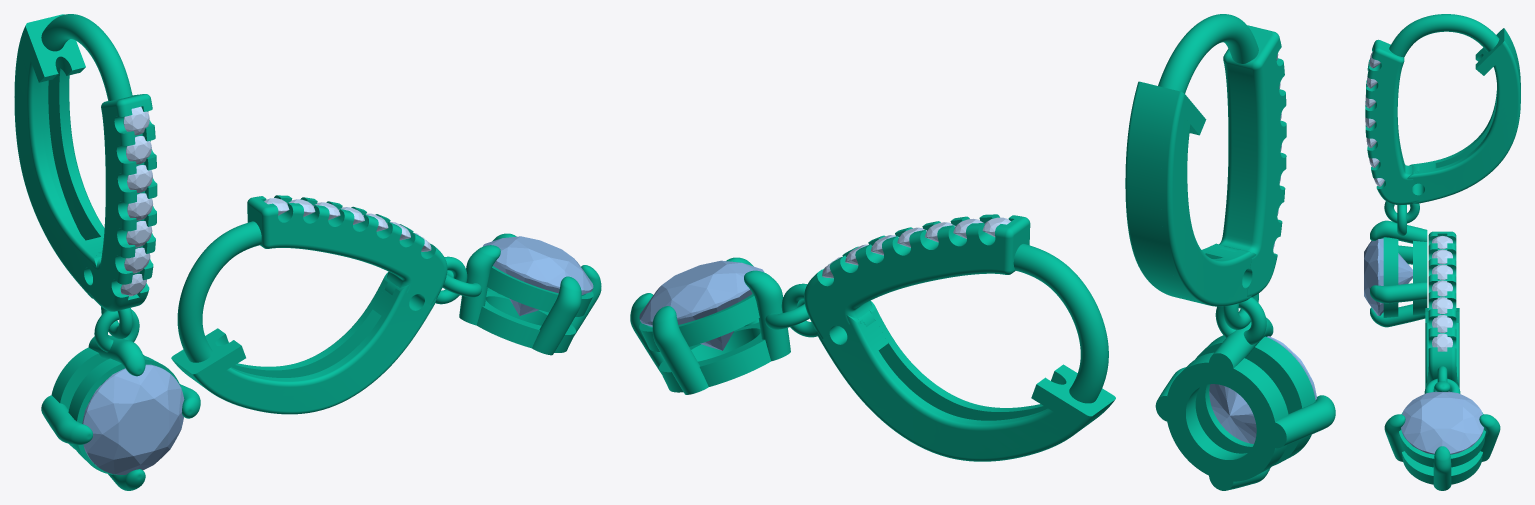
3 views of the same model, side by side, from view 1: azimuth 30°, elevation 25°; view 2: azimuth 150°, elevation 25°; view 3: azimuth 270°, elevation 25° (orthographic). The views are drawn at different scales.
Parts seen in each view (by area): view 1: VEAR133.3dm, Diamond_Round (×2), Bezel (×4), Head Prong (×4); view 2: VEAR133.3dm, Bezel (×4), Head Prong (×5), Diamond_Round (×2); view 3: VEAR133.3dm, Diamond_Round (×9), Head Prong (×7), Bezel (×4).
Part boxes in pixels (<box>): VEAR133.3dm: <box>14,14,481,414</box>; Diamond_Round (×2): <box>82,236,593,474</box>; Bezel (×4): <box>51,266,593,474</box>; Head Prong (×4): <box>41,245,581,444</box>; VEAR133.3dm: <box>765,14,1286,461</box>; Bezel (×4): <box>639,294,1315,481</box>; Head Prong (×5): <box>652,270,1335,490</box>; Diamond_Round (×2): <box>639,260,1316,443</box>; VEAR133.3dm: <box>1365,14,1520,393</box>; Diamond_Round (×9): <box>1364,236,1483,454</box>; Head Prong (×7): <box>1370,220,1500,490</box>; Bezel (×4): <box>1383,237,1485,484</box>.
Size of the model in its own units: 3.14 by 2.26 by 1.03.
